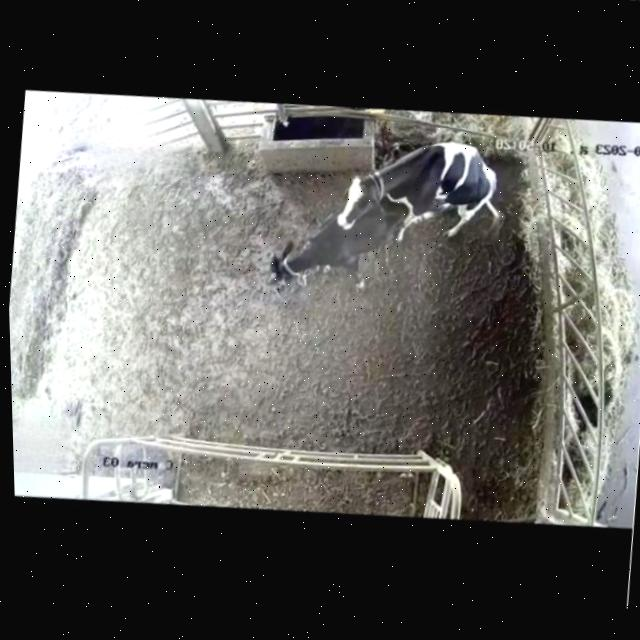ride: (329, 114, 525, 264)
stand: (242, 171, 432, 320)
